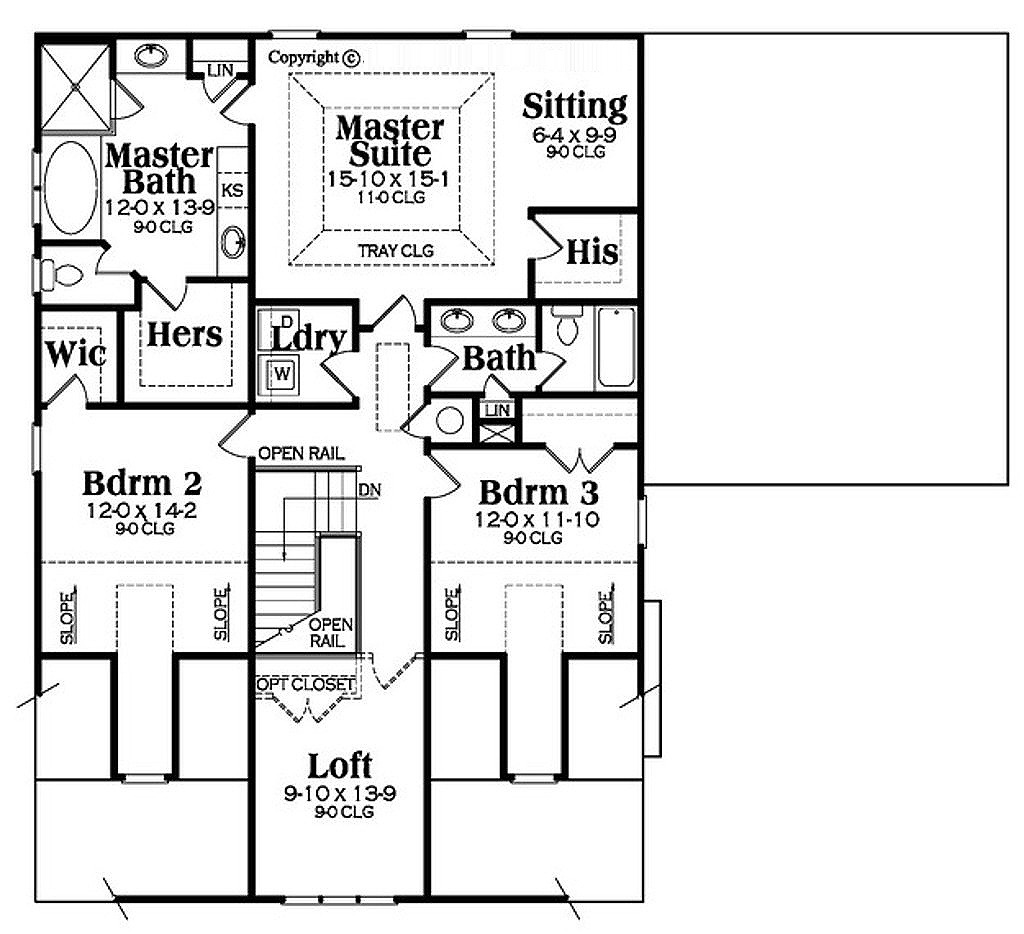door: (261, 681, 358, 725), (543, 440, 623, 481), (523, 220, 584, 269), (316, 347, 366, 401), (40, 373, 97, 418), (366, 292, 427, 334), (145, 270, 195, 321), (213, 407, 262, 456), (413, 338, 458, 386), (526, 347, 571, 395), (398, 389, 437, 444), (371, 656, 426, 695), (105, 79, 142, 128), (92, 244, 133, 288), (226, 83, 266, 125), (423, 452, 456, 501), (197, 75, 236, 108), (479, 375, 518, 402)
large_sink: (540, 302, 592, 356), (30, 253, 85, 294)
small_sink: (433, 304, 542, 340), (113, 37, 194, 79), (210, 217, 252, 278)
stairs: (262, 463, 378, 660)
tub: (36, 133, 113, 241), (590, 296, 637, 398)
window: (274, 886, 410, 912), (459, 18, 529, 53), (498, 770, 562, 794), (268, 25, 330, 43)
